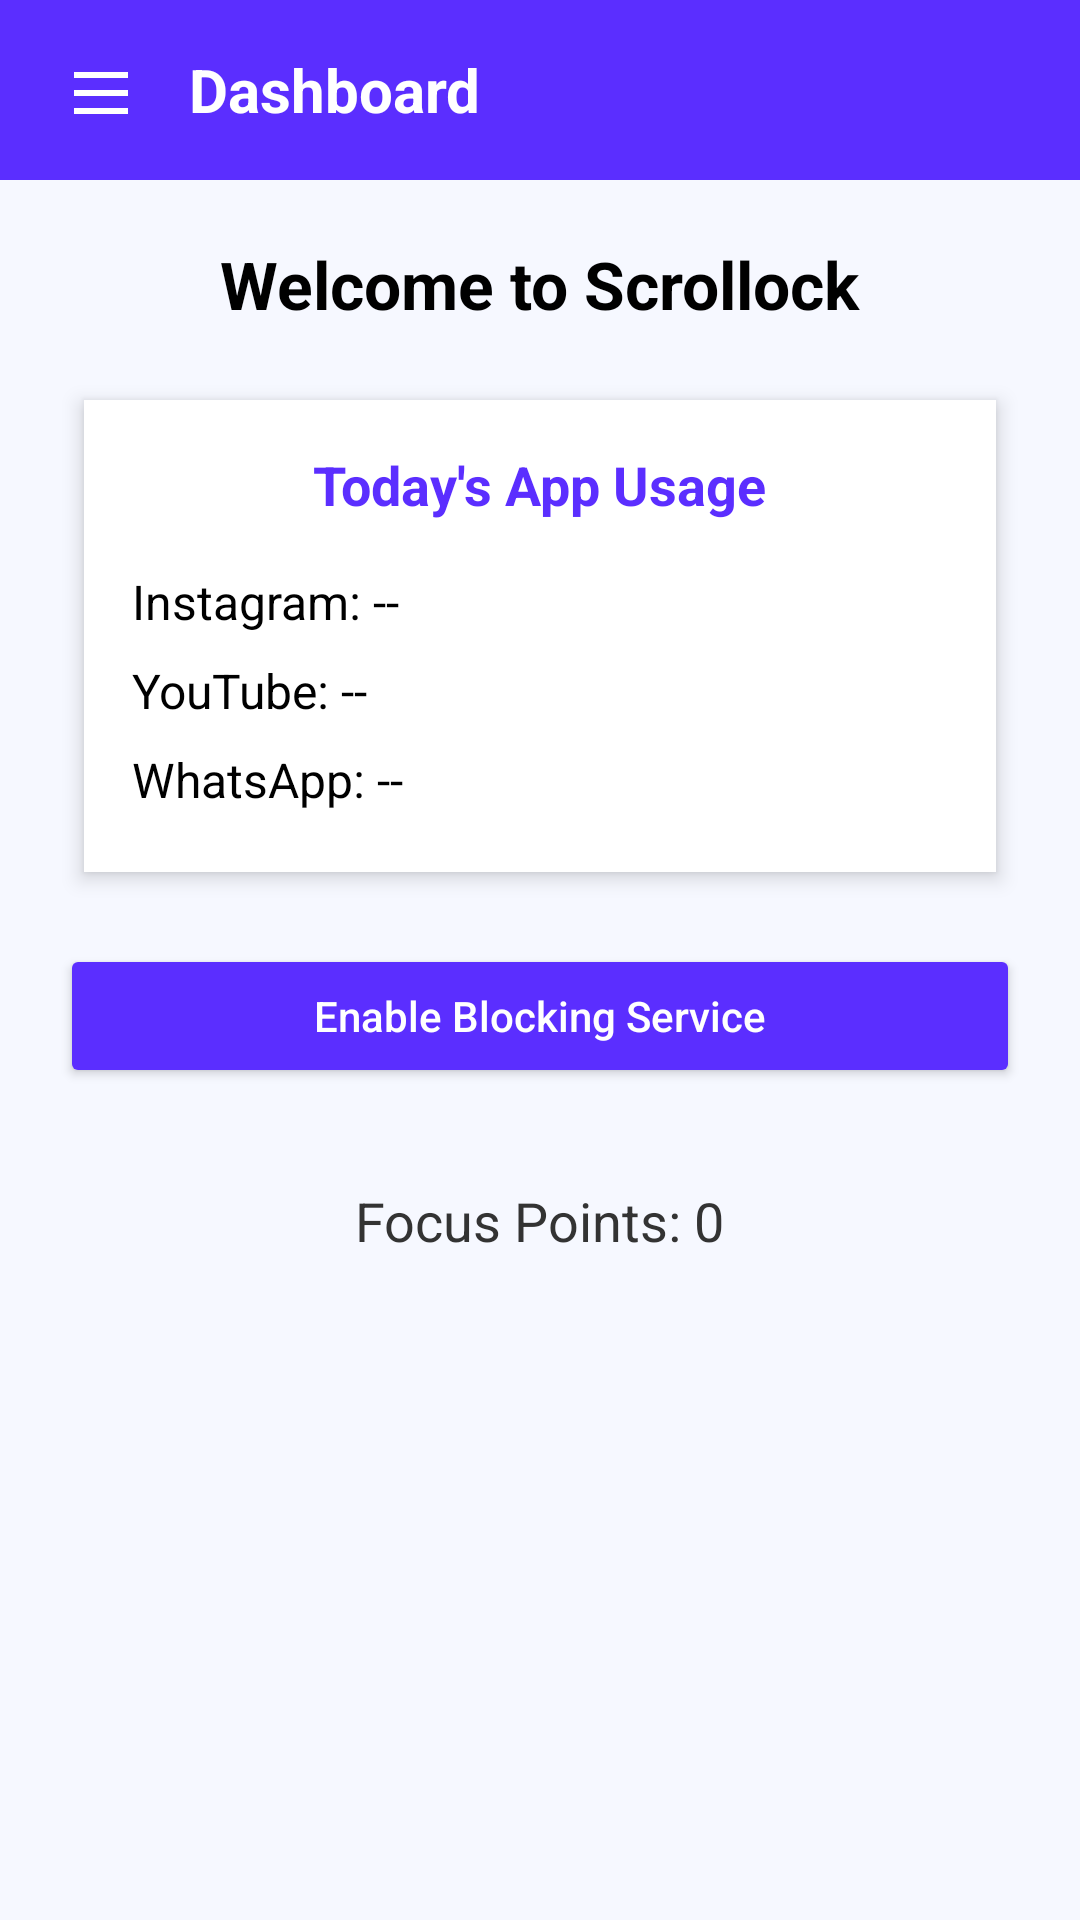

Icon click points for this 1080*1920 phone screenshot, format point (x, y):
menu: point (101, 93)
